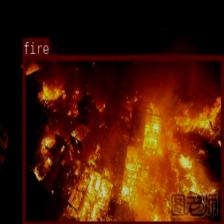fire: (22, 54, 223, 224)
